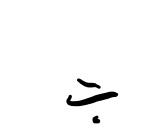div: (65, 79, 117, 126)
